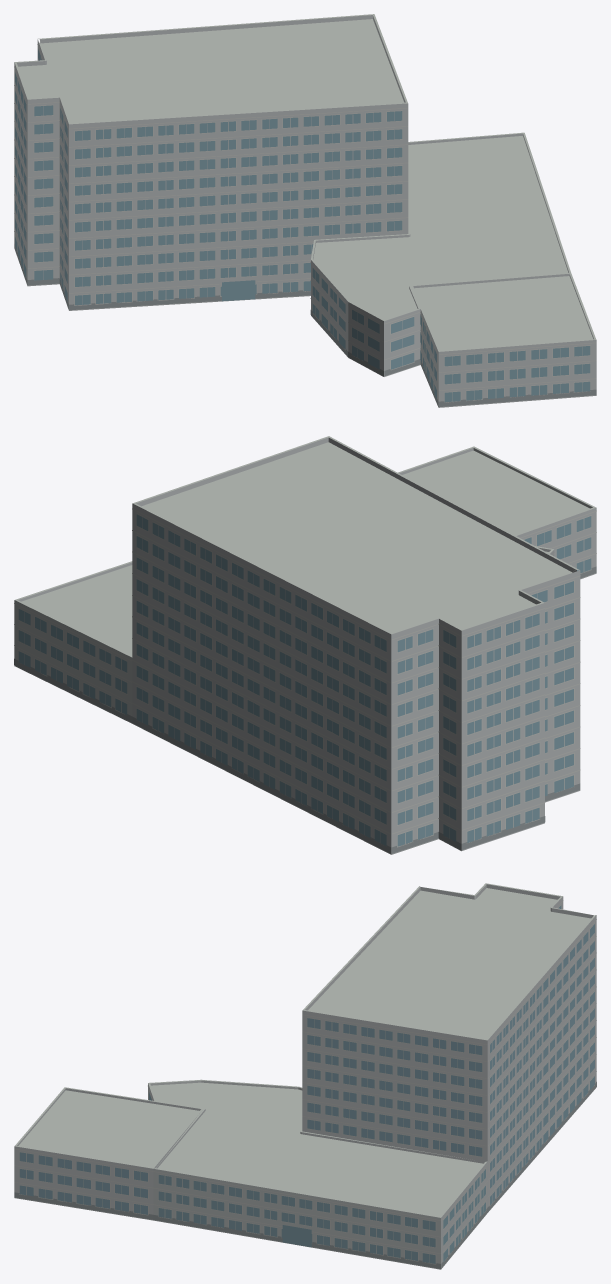
The model's file is public-03fc6c7a-a29f-453f-ab01-9ae3bfab6c56.glb.
3 renders of one model, top to bottom at view 1: azimuth 30°, elevation 25°; view 2: azimuth 150°, elevation 25°; view 3: azimuth 270°, elevation 25°, orthographic. The views are drawn at different scales.
Visible parts, largest first — view 1: public-03fc6c7a-a29f-453f-ab01-9ae3bfab6c56; view 2: public-03fc6c7a-a29f-453f-ab01-9ae3bfab6c56; view 3: public-03fc6c7a-a29f-453f-ab01-9ae3bfab6c56.
Boxes of the visible parts, x1,y1,x2,y2 form: public-03fc6c7a-a29f-453f-ab01-9ae3bfab6c56: (14, 14, 596, 407); public-03fc6c7a-a29f-453f-ab01-9ae3bfab6c56: (14, 436, 596, 854); public-03fc6c7a-a29f-453f-ab01-9ae3bfab6c56: (14, 883, 596, 1269).
Size of the model in its own units: 81.04 by 30.5 by 93.26.
